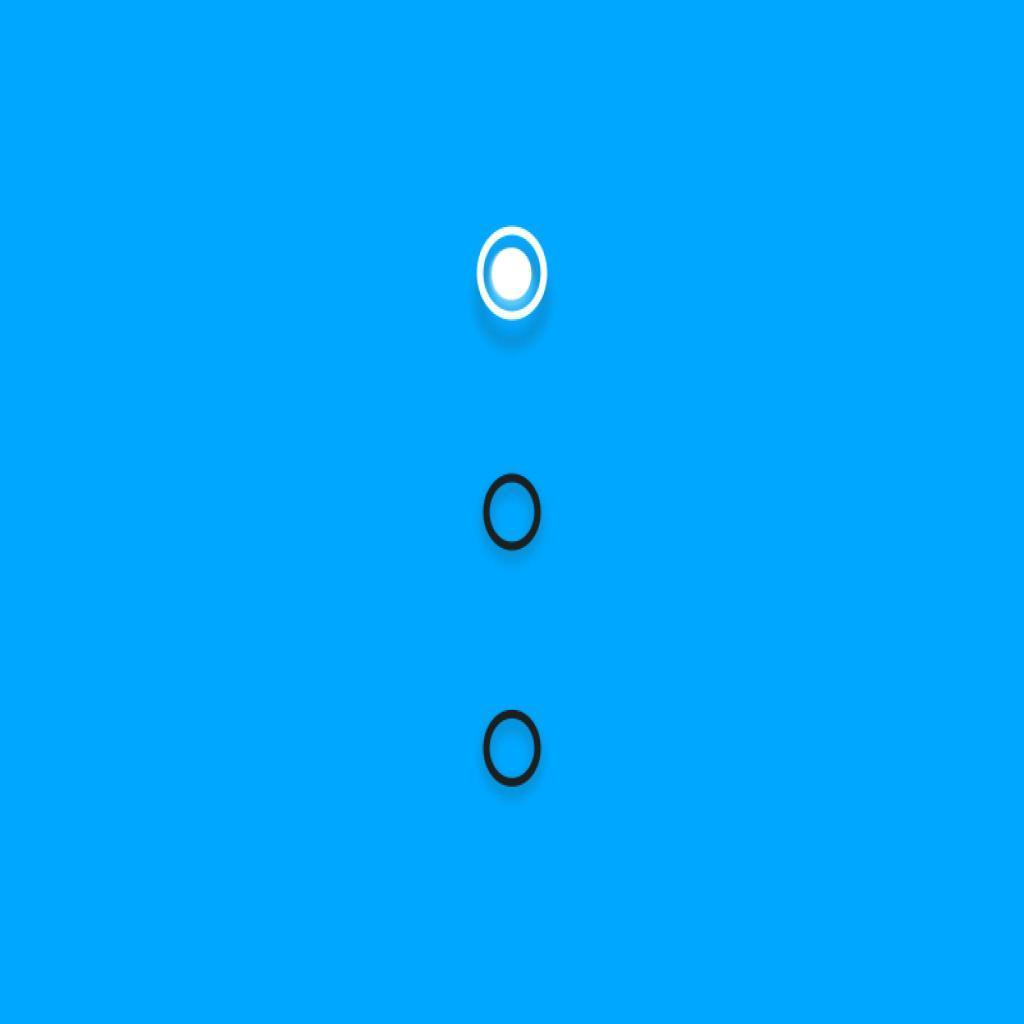radio: (472, 226, 554, 329), (475, 470, 546, 554), (482, 711, 545, 793)
